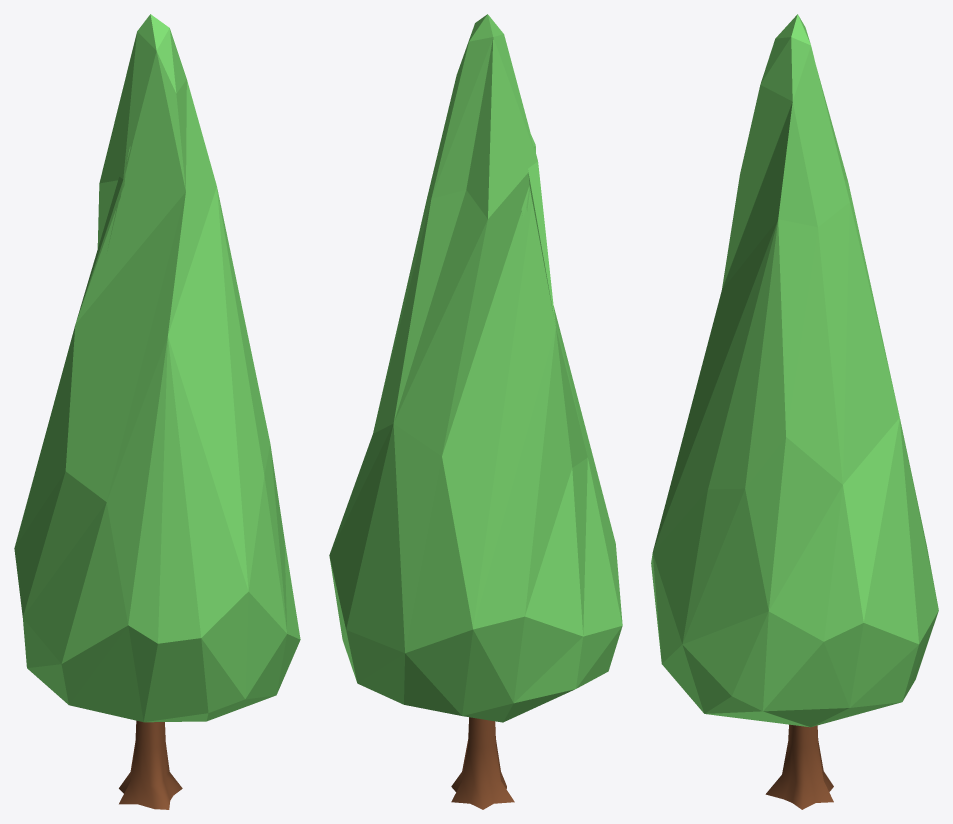
The model's file is tree_6.glb.
The picture shows the model from 3 angles, left to right: view 1: azimuth 30°, elevation 25°; view 2: azimuth 150°, elevation 25°; view 3: azimuth 270°, elevation 25°; orthographic projection.
Visible parts, largest first — view 1: Cone.009; view 2: Cone.009; view 3: Cone.009.
Part boxes in pixels (left/top/right/bottom): Cone.009: left=14, top=14, right=300, bottom=809; Cone.009: left=329, top=14, right=622, bottom=809; Cone.009: left=651, top=14, right=938, bottom=809.
Size of the model in its own units: 1.3 by 4.02 by 1.34.
